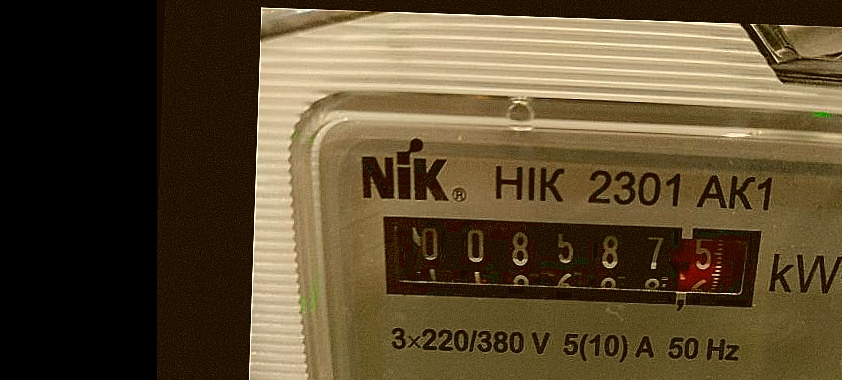0: (463, 223, 488, 264)
1: (417, 222, 442, 264)
5: (692, 232, 717, 273), (554, 227, 578, 266)
7: (643, 231, 667, 273)
8: (507, 227, 533, 269), (599, 230, 621, 272)
screen: (360, 195, 782, 328)
